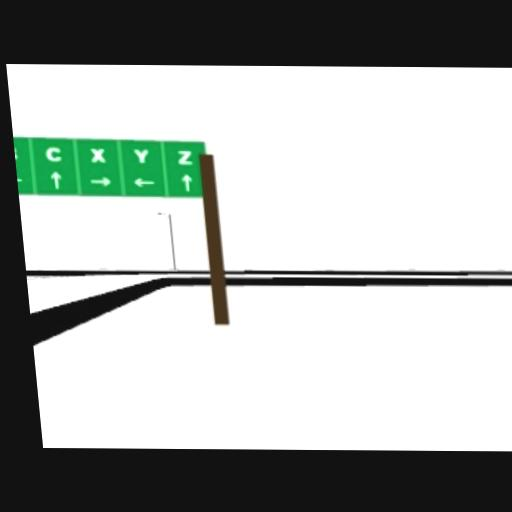B: (15, 146, 19, 162)
C: (44, 146, 64, 163)
Left: (17, 176, 21, 181)
Right: (88, 176, 110, 187), (131, 177, 155, 187)
Straight: (49, 170, 62, 190), (180, 173, 193, 191)
X: (89, 147, 107, 164)
Y: (131, 148, 151, 164)
Z: (176, 150, 194, 165)
